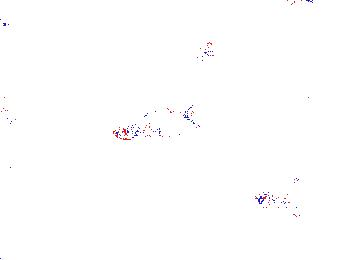glassfish: (322, 188, 346, 203)
red belly glassfish: (194, 40, 215, 64)
redtail glassfish: (112, 96, 202, 141), (253, 178, 307, 209)
